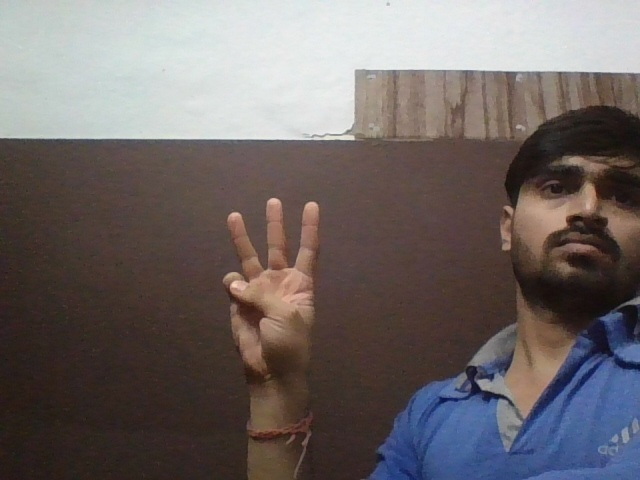W: (202, 189, 329, 398)
